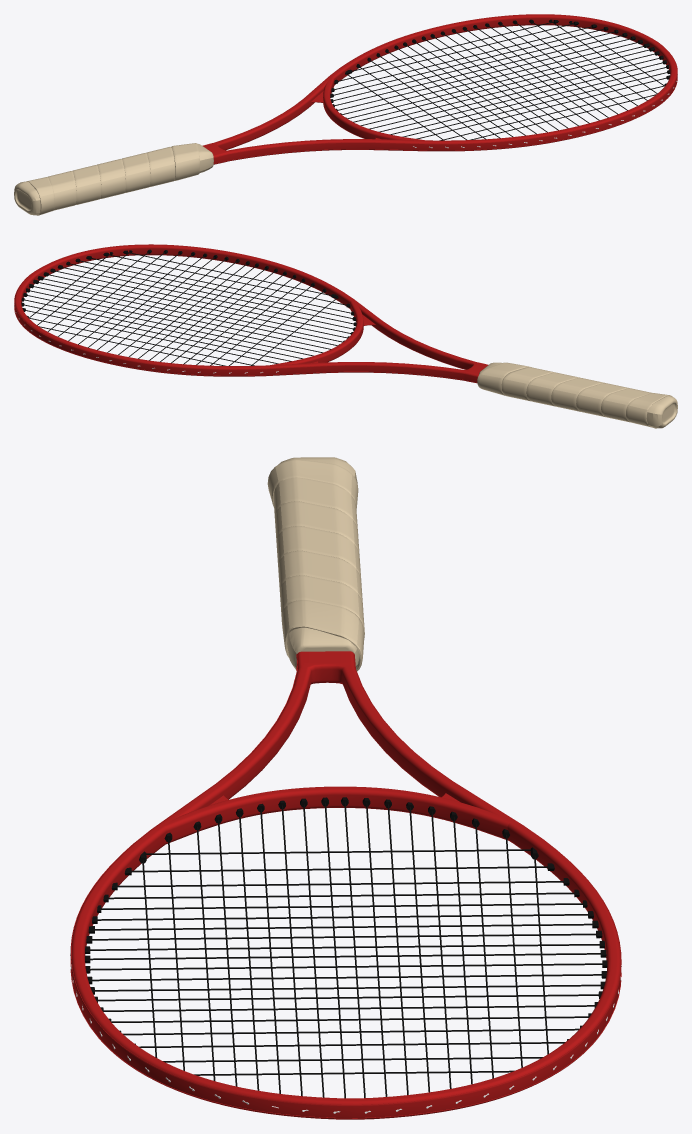
The model's file is tennis_racket.FBX.
3 renders of one model, top to bottom at view 1: azimuth 30°, elevation 25°; view 2: azimuth 150°, elevation 25°; view 3: azimuth 270°, elevation 25°, orthographic. The views are drawn at different scales.
Parts seen in each view (by area): view 1: arch27_004, arch27_003, arch27_002, arch27_005; view 2: arch27_004, arch27_003, arch27_002, arch27_005; view 3: arch27_004, arch27_003, arch27_002, arch27_005.
Boxes of the visible parts, x1=… form: arch27_004: x1=202, y1=14, x2=677, y2=164; arch27_003: x1=330, y1=19, x2=670, y2=140; arch27_002: x1=27, y1=143, x2=199, y2=215; arch27_005: x1=14, y1=143, x2=213, y2=215; arch27_004: x1=14, y1=244, x2=488, y2=383; arch27_003: x1=21, y1=249, x2=356, y2=365; arch27_002: x1=477, y1=362, x2=672, y2=426; arch27_005: x1=479, y1=362, x2=677, y2=428; arch27_004: x1=70, y1=651, x2=621, y2=1119; arch27_003: x1=85, y1=797, x2=607, y2=1098; arch27_002: x1=267, y1=459, x2=364, y2=671; arch27_005: x1=276, y1=457, x2=359, y2=669.
Size of the model in its own units: 25.93 by 1.1 by 9.84.
